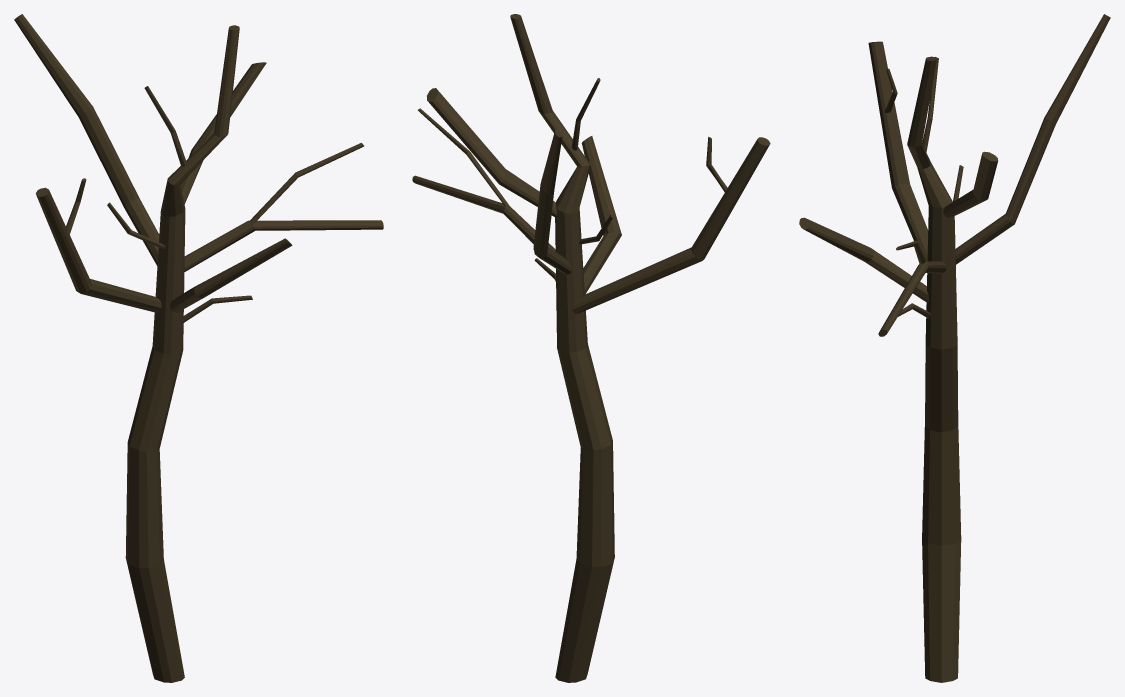
The model's file is Avore - Seca.fbx.
3 views of the same model, side by side, from view 1: azimuth 30°, elevation 25°; view 2: azimuth 150°, elevation 25°; view 3: azimuth 270°, elevation 25° (orthographic).
Visible parts, largest first — view 1: ArvoreSeca; view 2: ArvoreSeca; view 3: ArvoreSeca.
Part boxes in pixels (x1=…): ArvoreSeca: x1=14, y1=14, x2=383, y2=682; ArvoreSeca: x1=412, y1=14, x2=770, y2=682; ArvoreSeca: x1=799, y1=14, x2=1110, y2=682.
Size of the model in its own units: 279 by 486 by 212.
